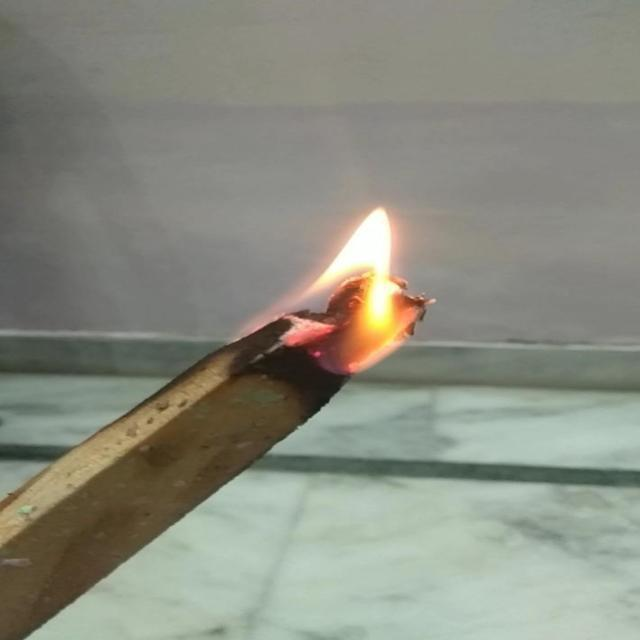smoke: (229, 200, 453, 378)
